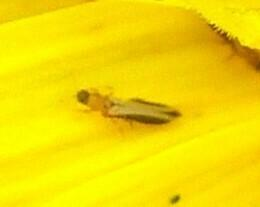tiny_pests: (61, 77, 188, 146)
